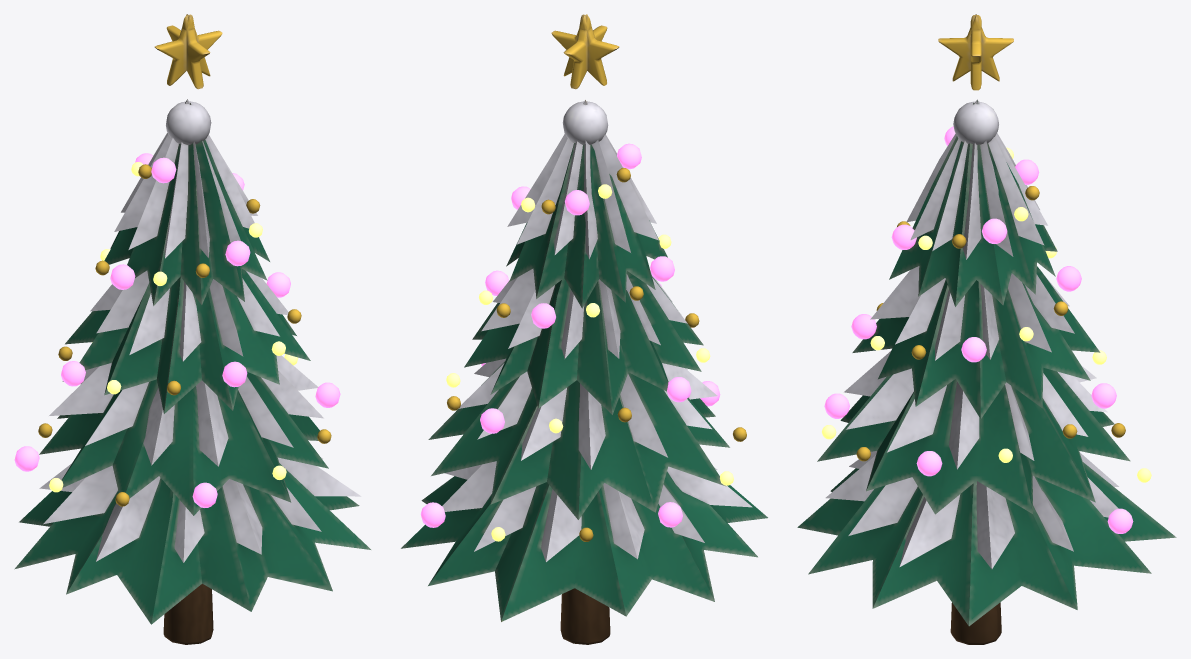
Rendered from sf_christmas_tree.glb.
3 renders of one model, left to right at view 1: azimuth 30°, elevation 25°; view 2: azimuth 150°, elevation 25°; view 3: azimuth 270°, elevation 25°, orthographic.
Parts seen in each view (by area): view 1: sf_christmas_tree; view 2: sf_christmas_tree; view 3: sf_christmas_tree.
Boxes of the visible parts, bbox=[...] form: sf_christmas_tree: bbox=[14, 14, 370, 644]; sf_christmas_tree: bbox=[401, 14, 767, 644]; sf_christmas_tree: bbox=[797, 14, 1176, 644].
Bounding box in the file's own units: 4.02 × 7.47 × 4.14.
6 materials, 6 textured.
